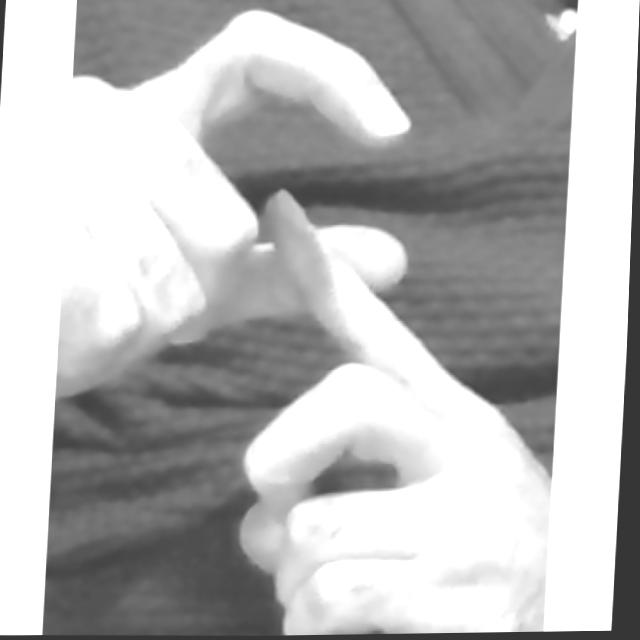C_: (43, 0, 578, 639)
